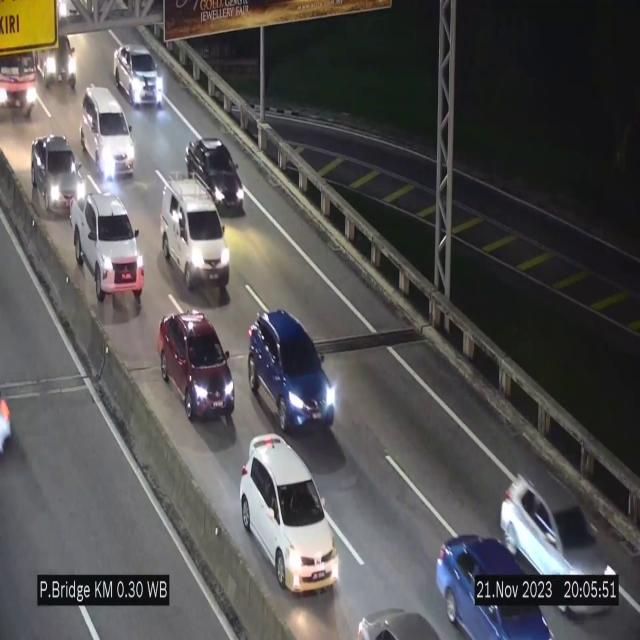Car: (502, 454, 620, 620), (240, 436, 340, 592), (436, 514, 555, 640), (248, 309, 338, 431), (66, 190, 146, 308), (160, 311, 238, 431), (161, 178, 229, 300), (184, 133, 246, 223), (81, 86, 135, 176), (30, 136, 87, 220), (35, 18, 83, 84), (113, 44, 162, 104)
Truck: (0, 34, 46, 122)
